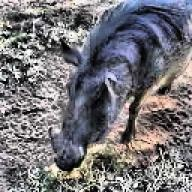boar: (46, 0, 192, 171)
